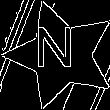N_S: (40, 30, 82, 80)
